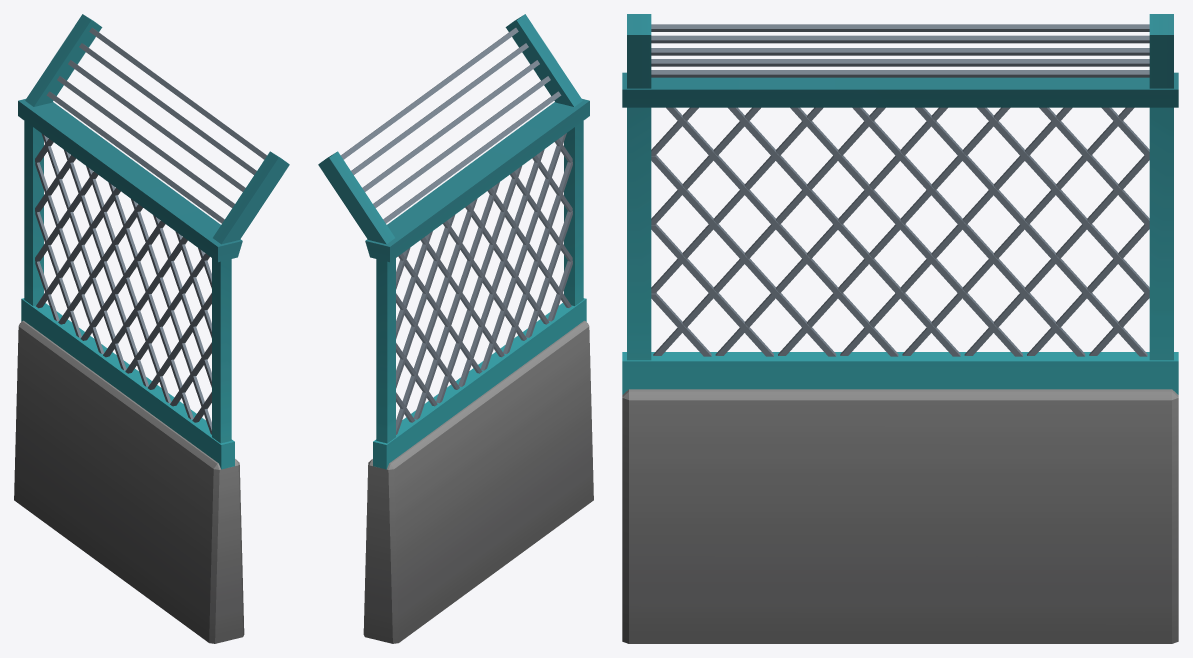
File: Fence_6_2_D.fbx
3 views of the same model, side by side, from view 1: azimuth 30°, elevation 25°; view 2: azimuth 150°, elevation 25°; view 3: azimuth 270°, elevation 25° (orthographic). The views are drawn at different scales.
Visible parts, largest first — view 1: Fence_6_2_D; view 2: Fence_6_2_D; view 3: Fence_6_2_D.
Part boxes in pixels (x1,y1,x2,y2): Fence_6_2_D: (14,14,289,643); Fence_6_2_D: (318,14,593,643); Fence_6_2_D: (622,14,1178,643).
Bounding box in the file's own units: 69.53 × 388 × 300.
